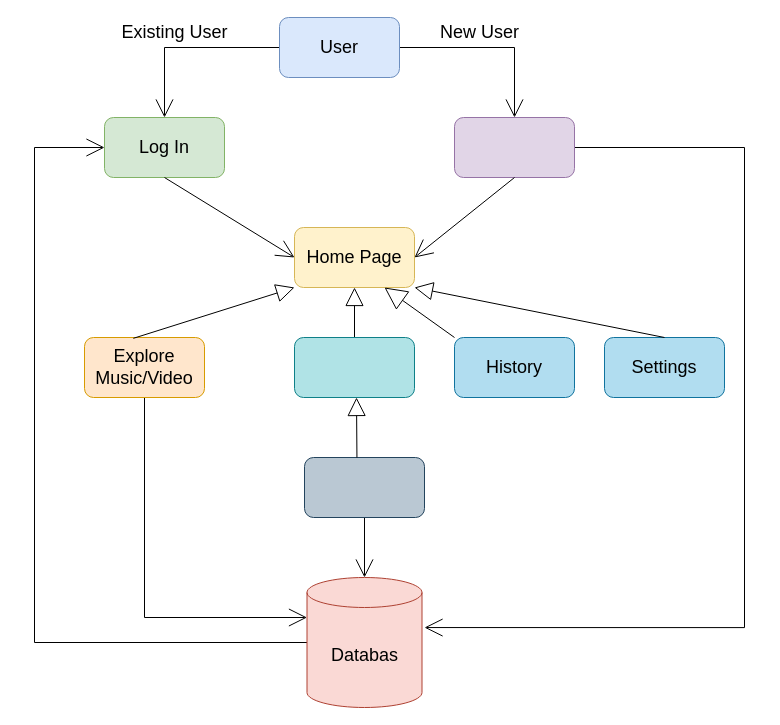
Image size: 780x725. Some labels were removed from this diagram. Each missing label, with the centre of its shape:
PlayList: (364,487)
Saved Music/Video: (354,367)
Sign Up: (514,147)
